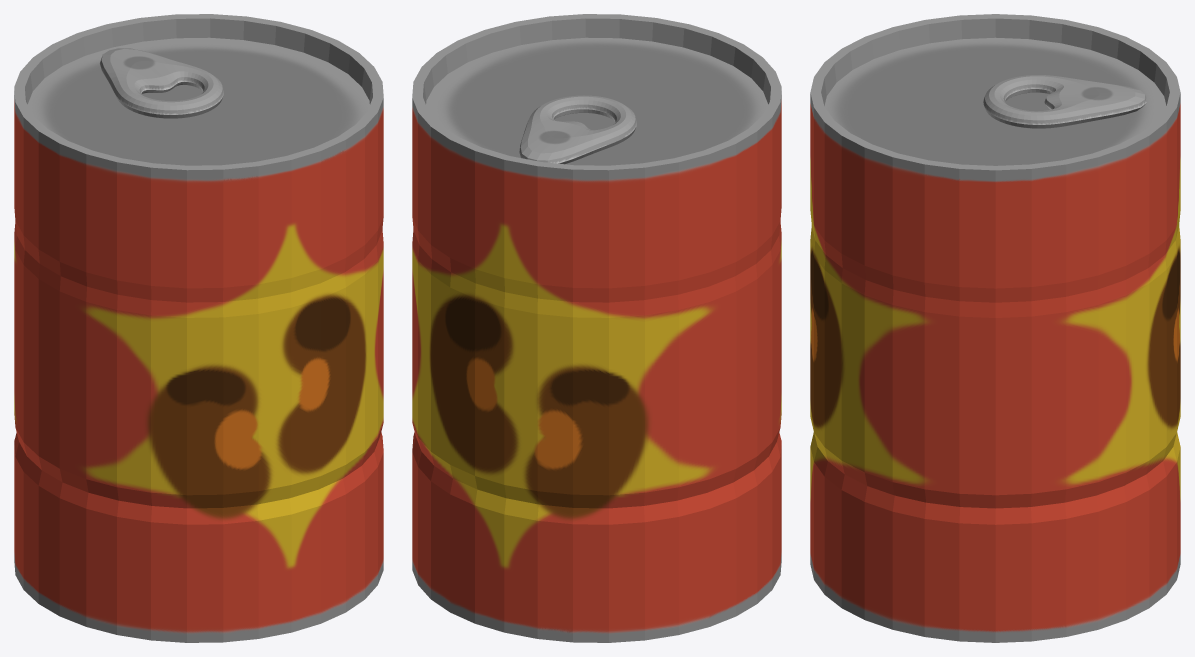
Rendered from beancan.fbx.
The picture shows the model from 3 angles, left to right: view 1: azimuth 30°, elevation 25°; view 2: azimuth 150°, elevation 25°; view 3: azimuth 270°, elevation 25°; orthographic projection.
Parts seen in each view (by area): view 1: Cylinder; view 2: Cylinder; view 3: Cylinder.
Boxes of the visible parts, <box> form: Cylinder: <box>14,14,383,642</box>; Cylinder: <box>412,14,781,642</box>; Cylinder: <box>810,14,1180,642</box>.
Size of the model in its own units: 150 by 212 by 150.
